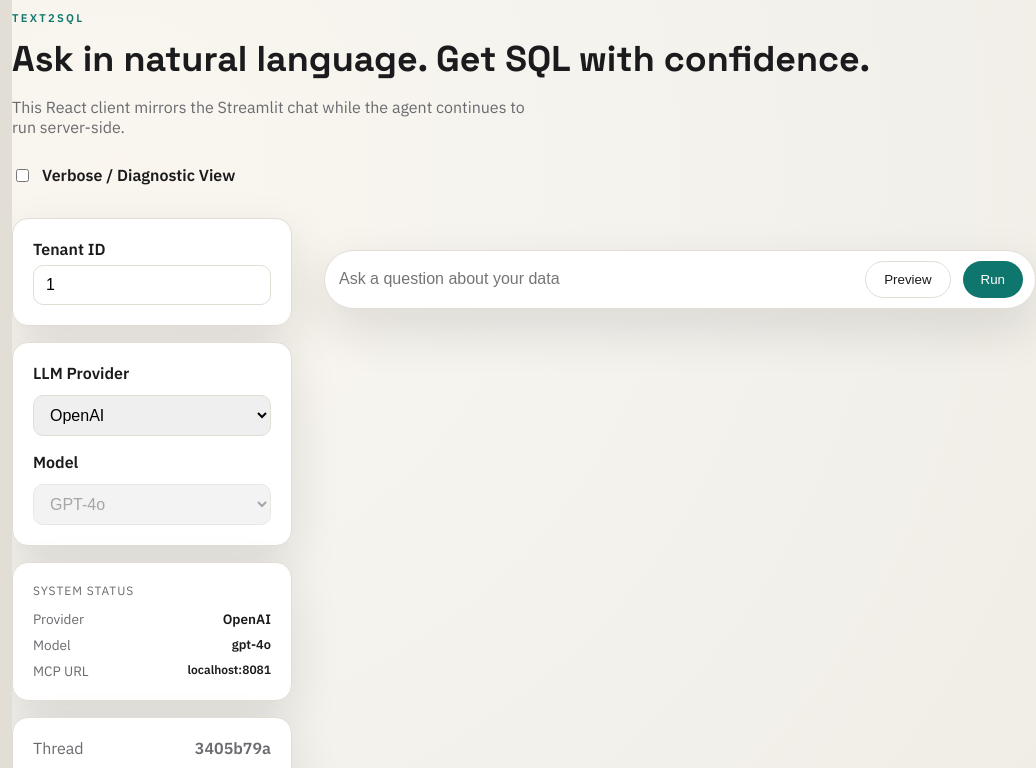
AgentChat streaming › falls back to runAgent on stream timeout
The image size is (1036, 768).
Type "slow query" into the field with placeholder "Ask a question about your data" at (595, 279), box [337,261,853,298]
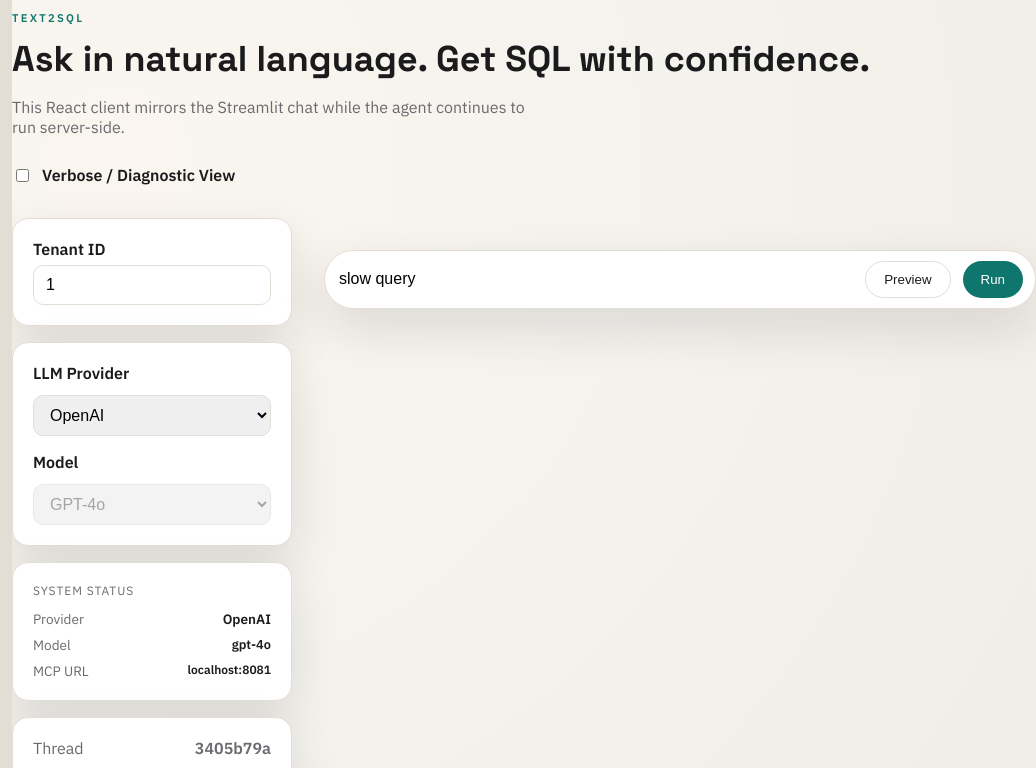
Submit the form with placeholder "ask a question", box [324,250,1035,309]
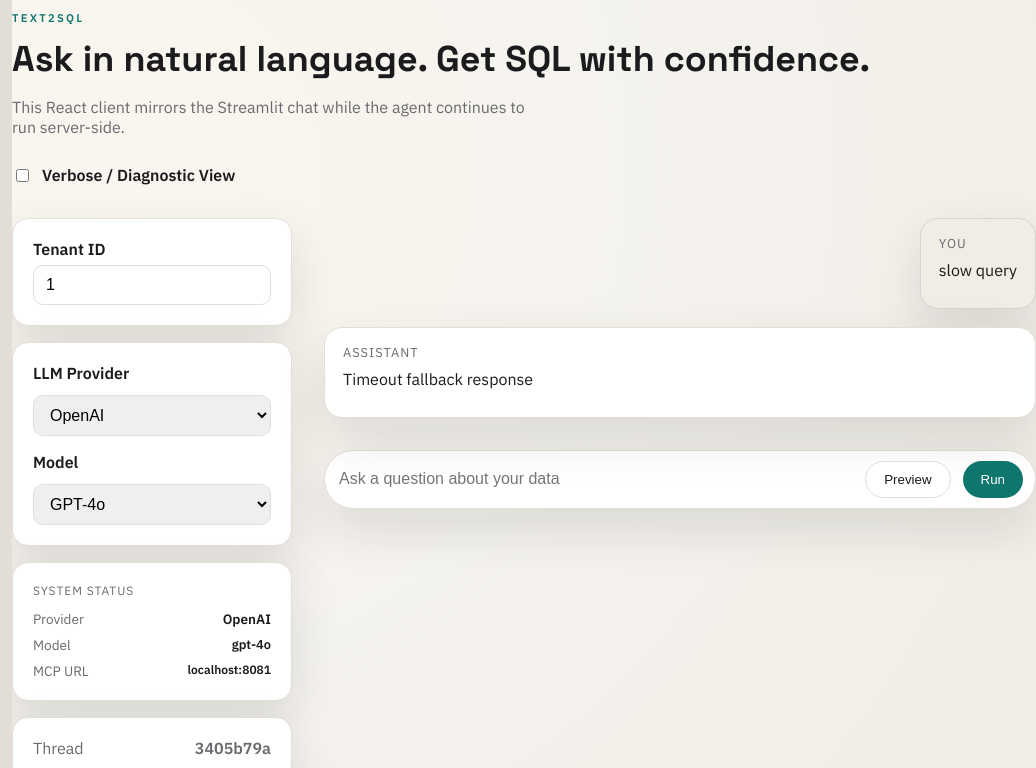
Result: the text "Timeout fallback response" is shown at [343,369,533,389]
